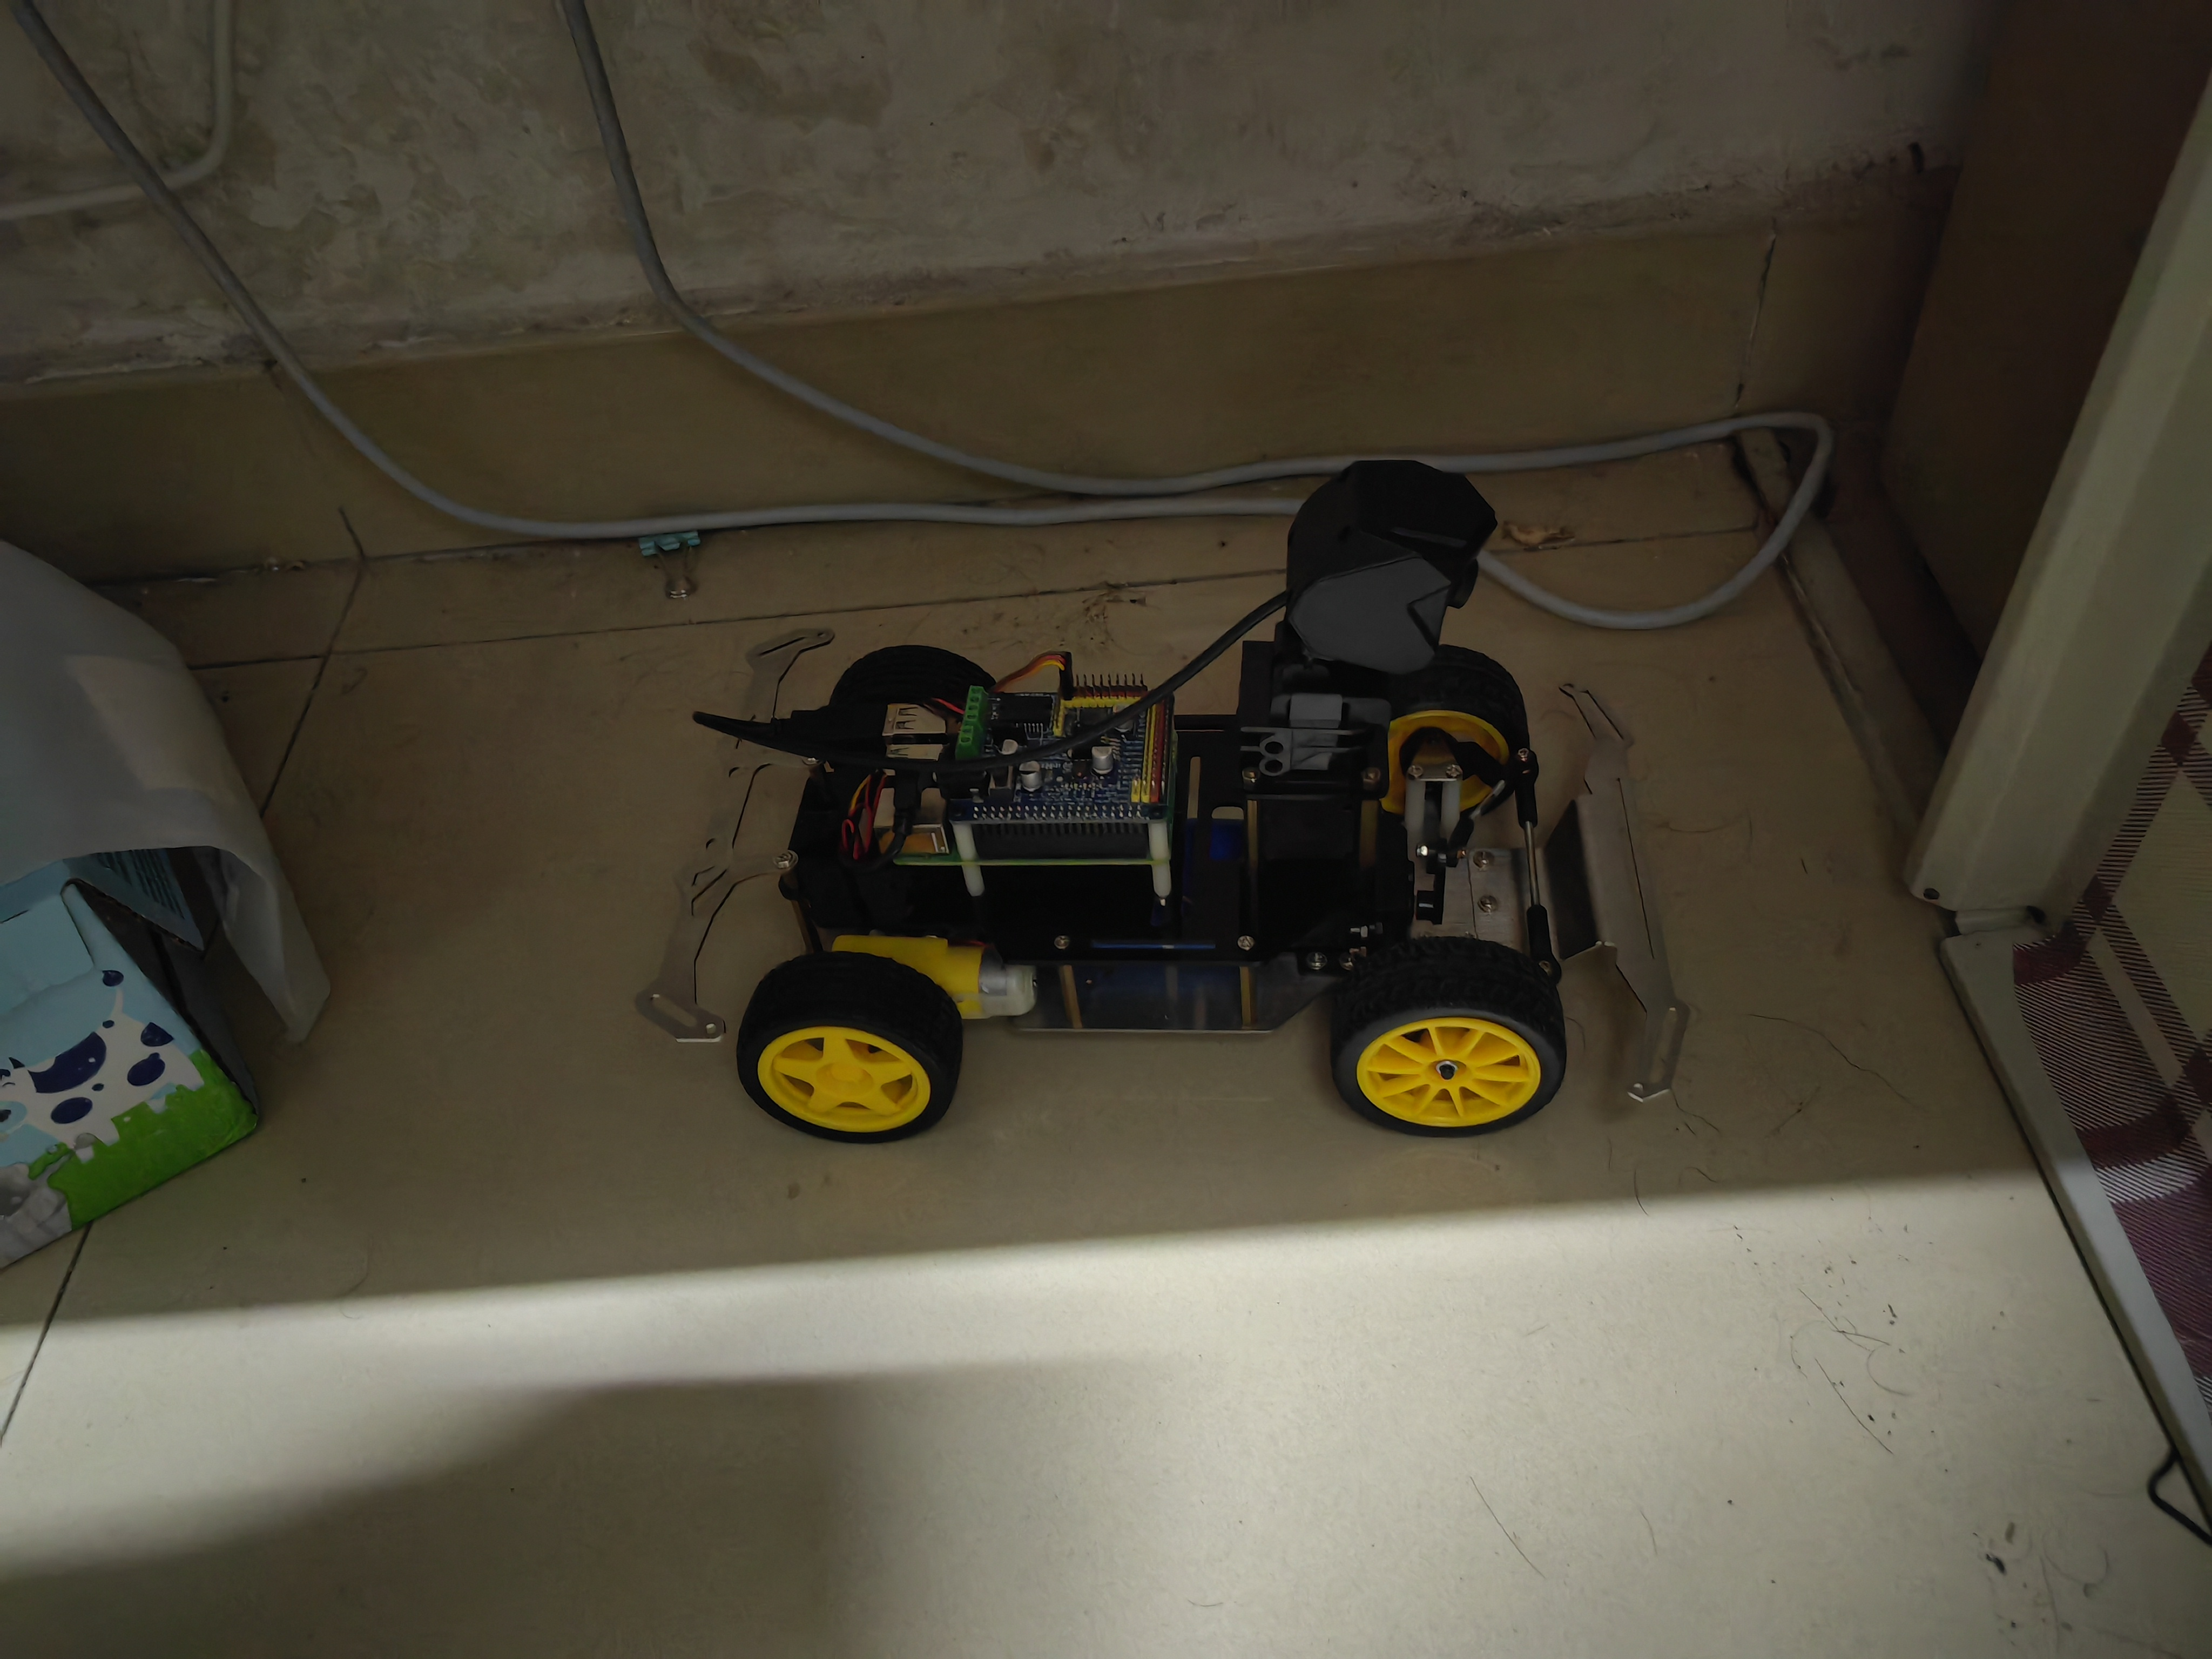car: (653, 444, 1663, 1161)
